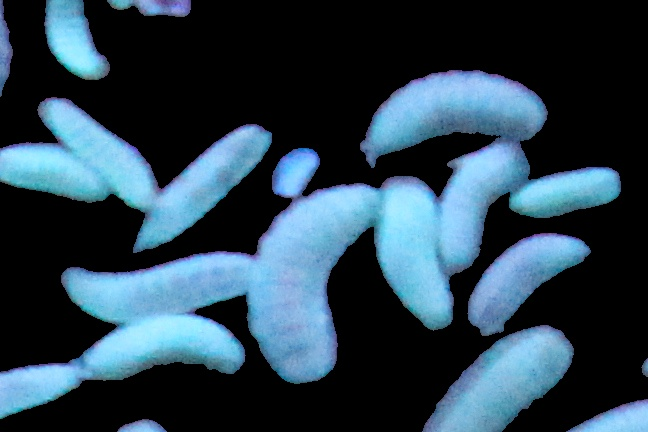larvae: (247, 183, 377, 379), (360, 69, 553, 165), (137, 122, 274, 249), (421, 325, 571, 432), (31, 89, 155, 211), (64, 251, 248, 320), (467, 233, 590, 334), (439, 139, 528, 272), (79, 318, 247, 384), (380, 175, 450, 325), (1, 142, 106, 213), (512, 167, 620, 219), (39, 1, 111, 79), (1, 356, 76, 421)
